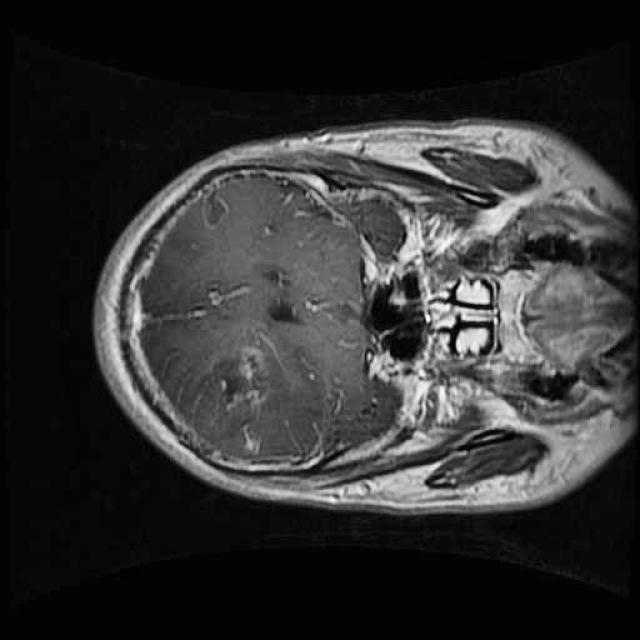Tumor: (180, 320, 305, 449)
